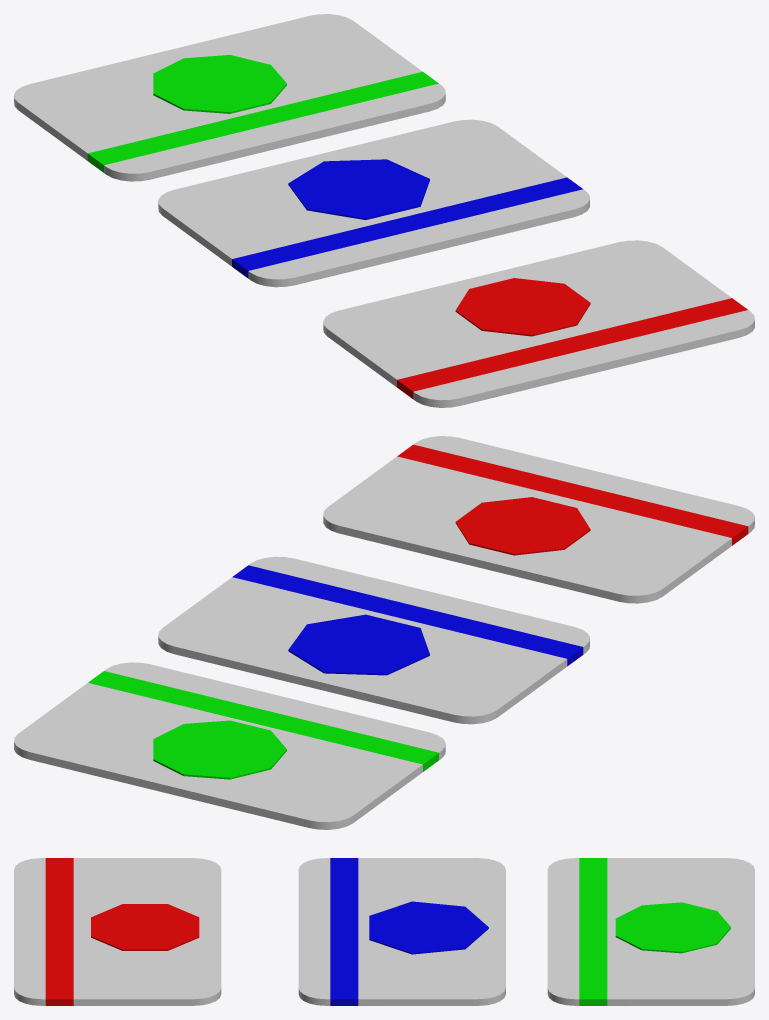
File: CardPuzzle.fbx
3 views of the same model, one above another, from view 1: azimuth 30°, elevation 25°; view 2: azimuth 150°, elevation 25°; view 3: azimuth 270°, elevation 25° (orthographic). The views are drawn at different scales.
Visible parts, largest first — view 1: Card1, Card3, Card2; view 2: Card1, Card3, Card2; view 3: Card2, Card1, Card3.
Part boxes in pixels (left/top/right/bottom): Card1: left=323, top=240, right=754, bottom=407; Card3: left=14, top=14, right=445, bottom=181; Card2: left=158, top=119, right=589, bottom=287; Card1: left=323, top=436, right=754, bottom=603; Card3: left=14, top=662, right=445, bottom=829; Card2: left=158, top=556, right=589, bottom=724; Card2: left=298, top=858, right=505, bottom=1005; Card1: left=14, top=858, right=221, bottom=1005; Card3: left=547, top=858, right=754, bottom=1005.
Bounding box in the file's own units: 1.61 × 0.0452 × 3.57.
